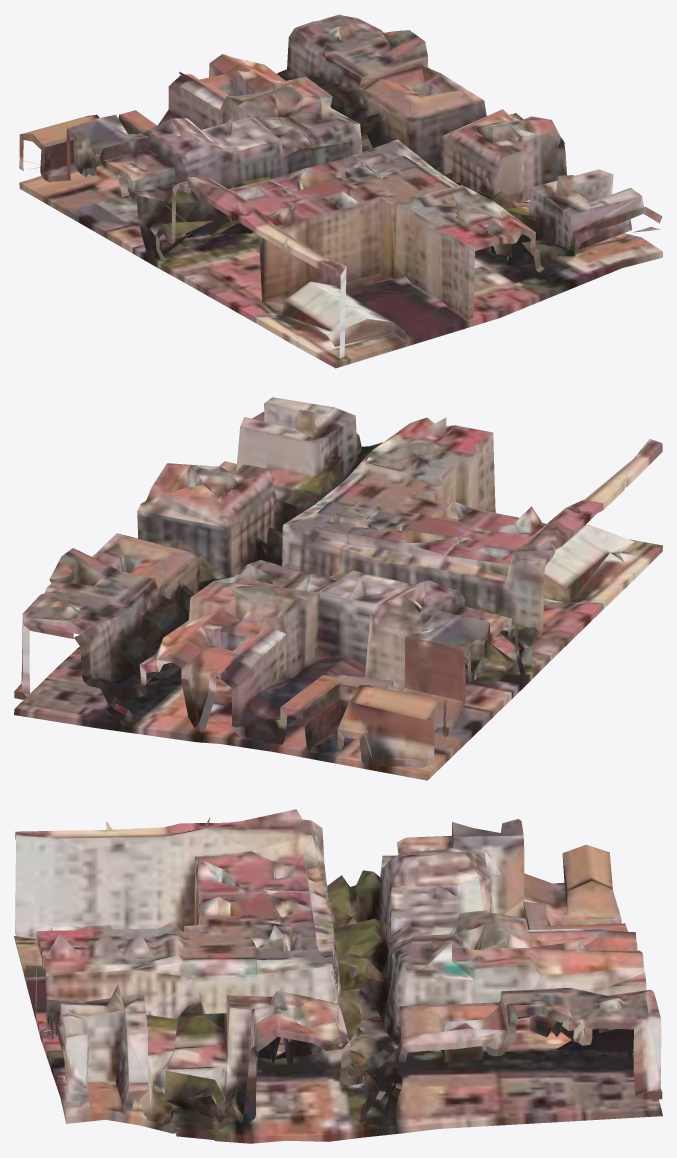
3 views of the same model, one above another, from view 1: azimuth 30°, elevation 25°; view 2: azimuth 150°, elevation 25°; view 3: azimuth 270°, elevation 25° (orthographic). The views are drawn at different scales.
Visible parts, largest first — view 1: Mesh_0; view 2: Mesh_0; view 3: Mesh_0.
Part boxes in pixels (bbox=[...]): Mesh_0: bbox=[19, 14, 662, 368]; Mesh_0: bbox=[14, 397, 662, 780]; Mesh_0: bbox=[14, 809, 662, 1143].
Size of the model in its own units: 135 by 39.18 by 165.
Materials: 1 (1 with a texture image).
